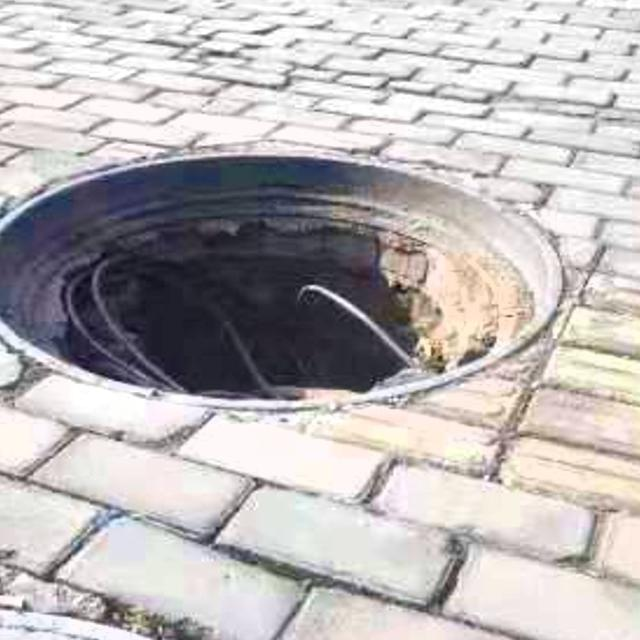lose: (0, 145, 566, 413), (0, 606, 480, 640)
